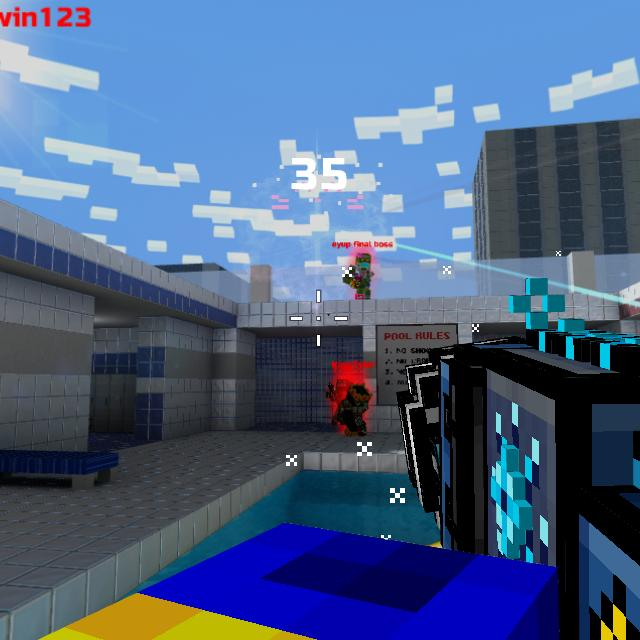Enemy: (338, 385, 372, 437), (342, 253, 375, 300), (326, 378, 352, 425)
